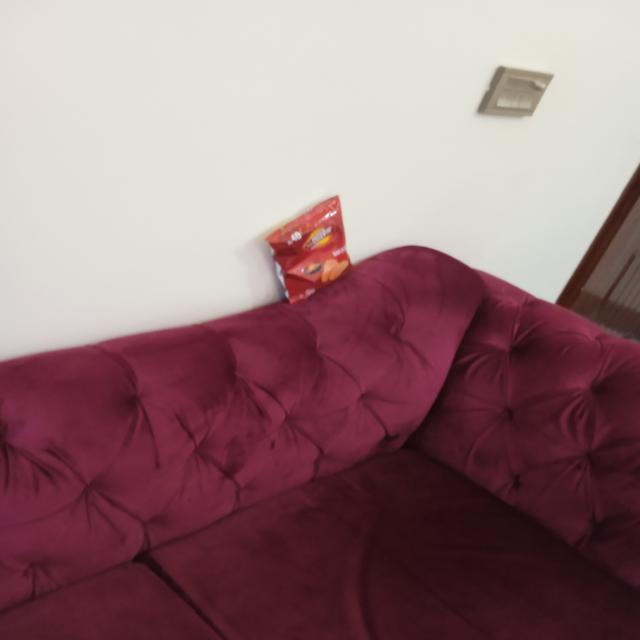Plastic: (265, 196, 357, 305)
